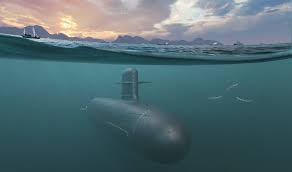Submarine: (82, 68, 191, 161)
